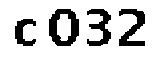0: (50, 4, 81, 50)
2: (117, 5, 149, 49)
3: (85, 3, 113, 50)
c: (12, 15, 41, 51)
